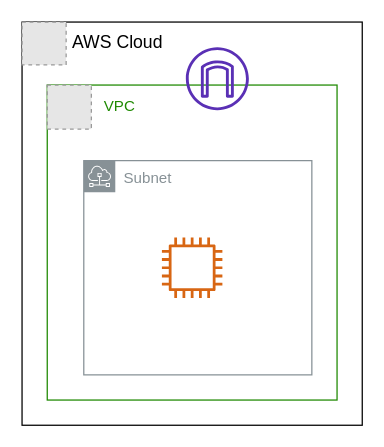
The diagram is 384 pixels wide and 447 high, and some of its shapes have lost their labels. Grey dashed boxes stand in for pictures. Each missing label, with the centre of its shape:
Amazon Linux 2 EC2 Instance: (x=191, y=267)
Internet Gateway: (x=216, y=78)
